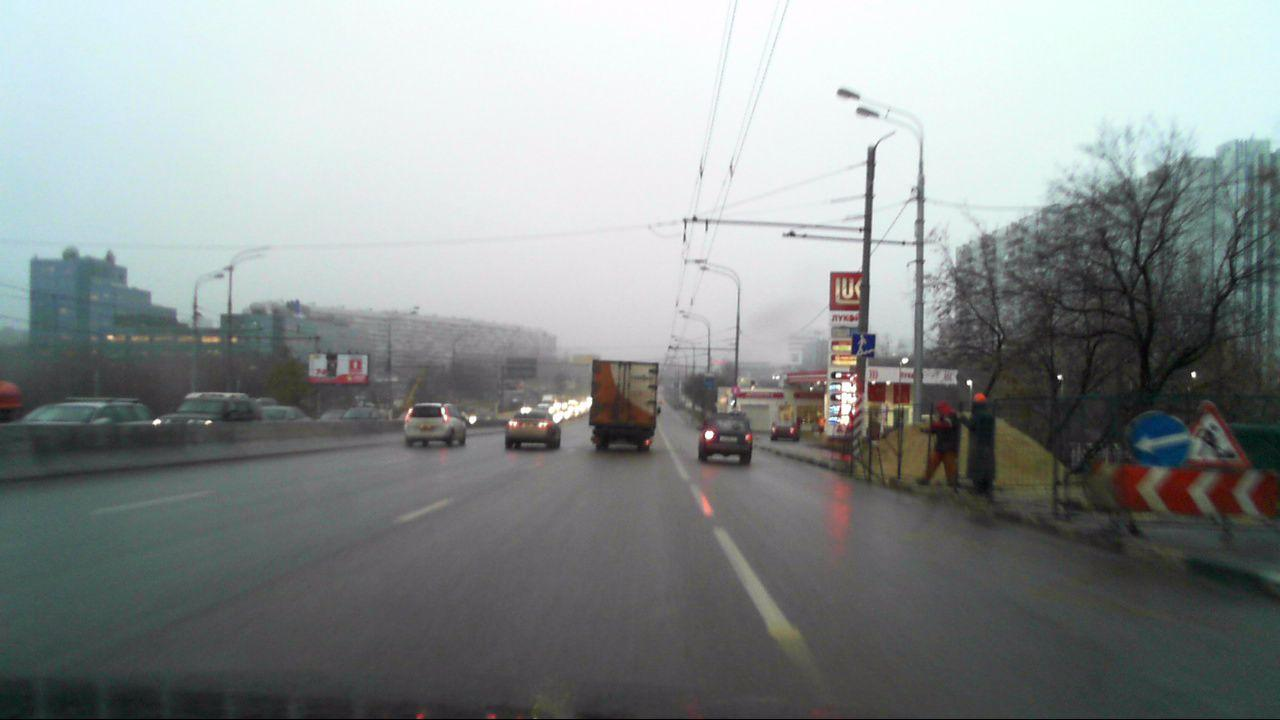1_25: (1190, 399, 1249, 467)
1_34_2: (1116, 467, 1280, 524)
4_2_2: (1126, 409, 1191, 465)
6_6: (850, 332, 877, 358)
